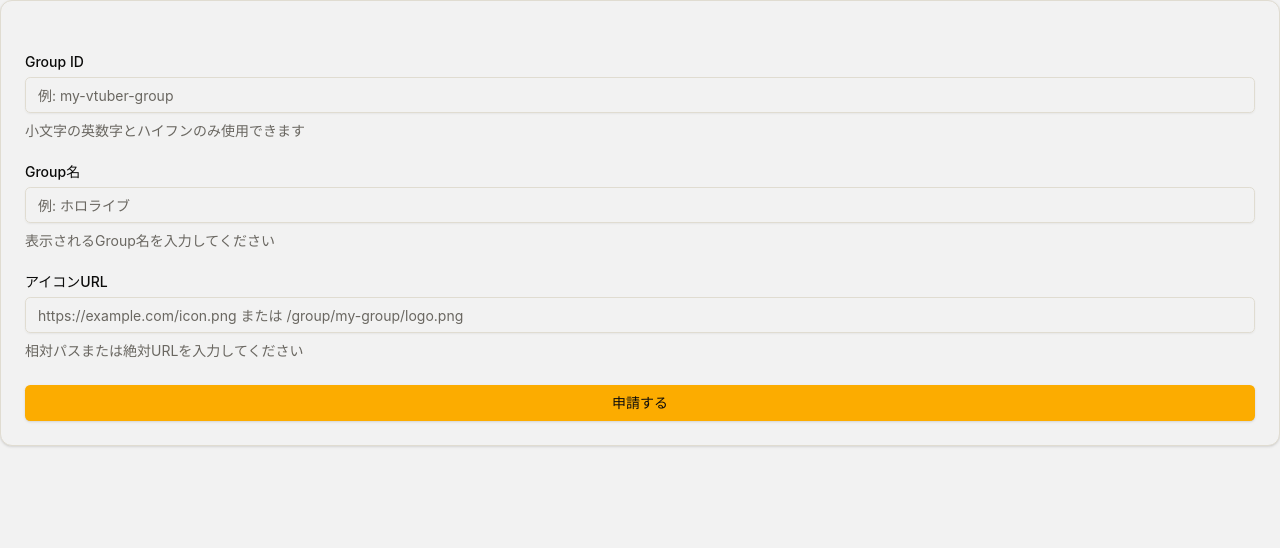
Test: Group申請フロー統合テスト › バリデーションエラー: 必須フィールドが空の場合
The width and height of the screenshot is (1280, 548).
// 空のフォームで送信を試行
Click the button "申請する".
click(640, 403)  # box [25, 385, 1255, 421]
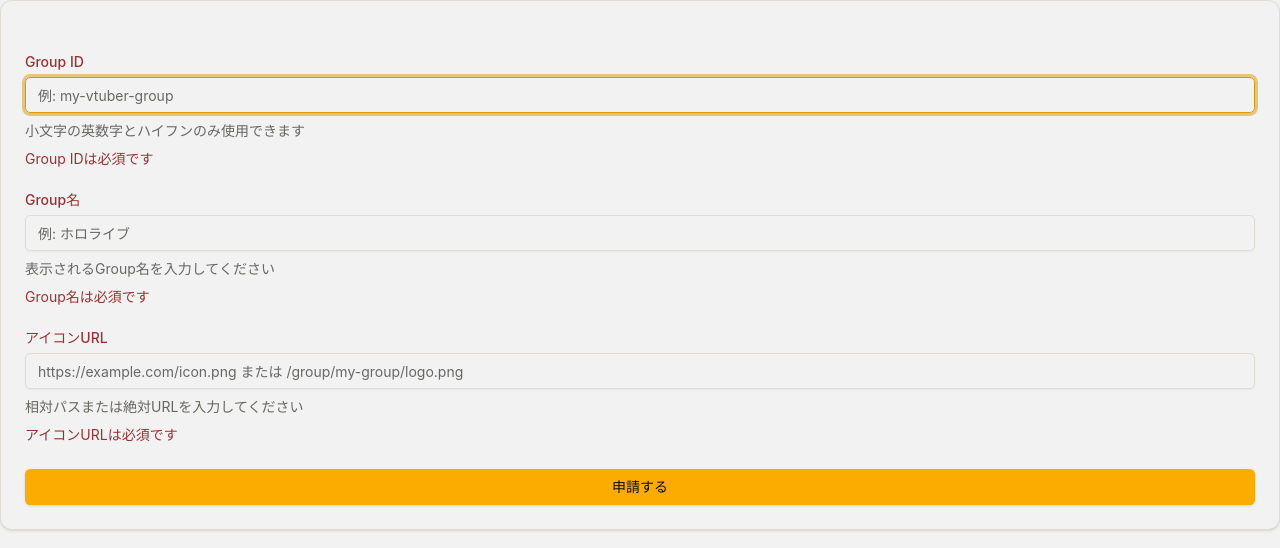
Check: the text "Group IDは必須です" is shown, box [25, 150, 154, 167]
Check: the text "Group名は必須です" is shown, box [25, 288, 150, 305]
Check: the text "アイコンURLは必須です" is shown, box [25, 426, 178, 443]
